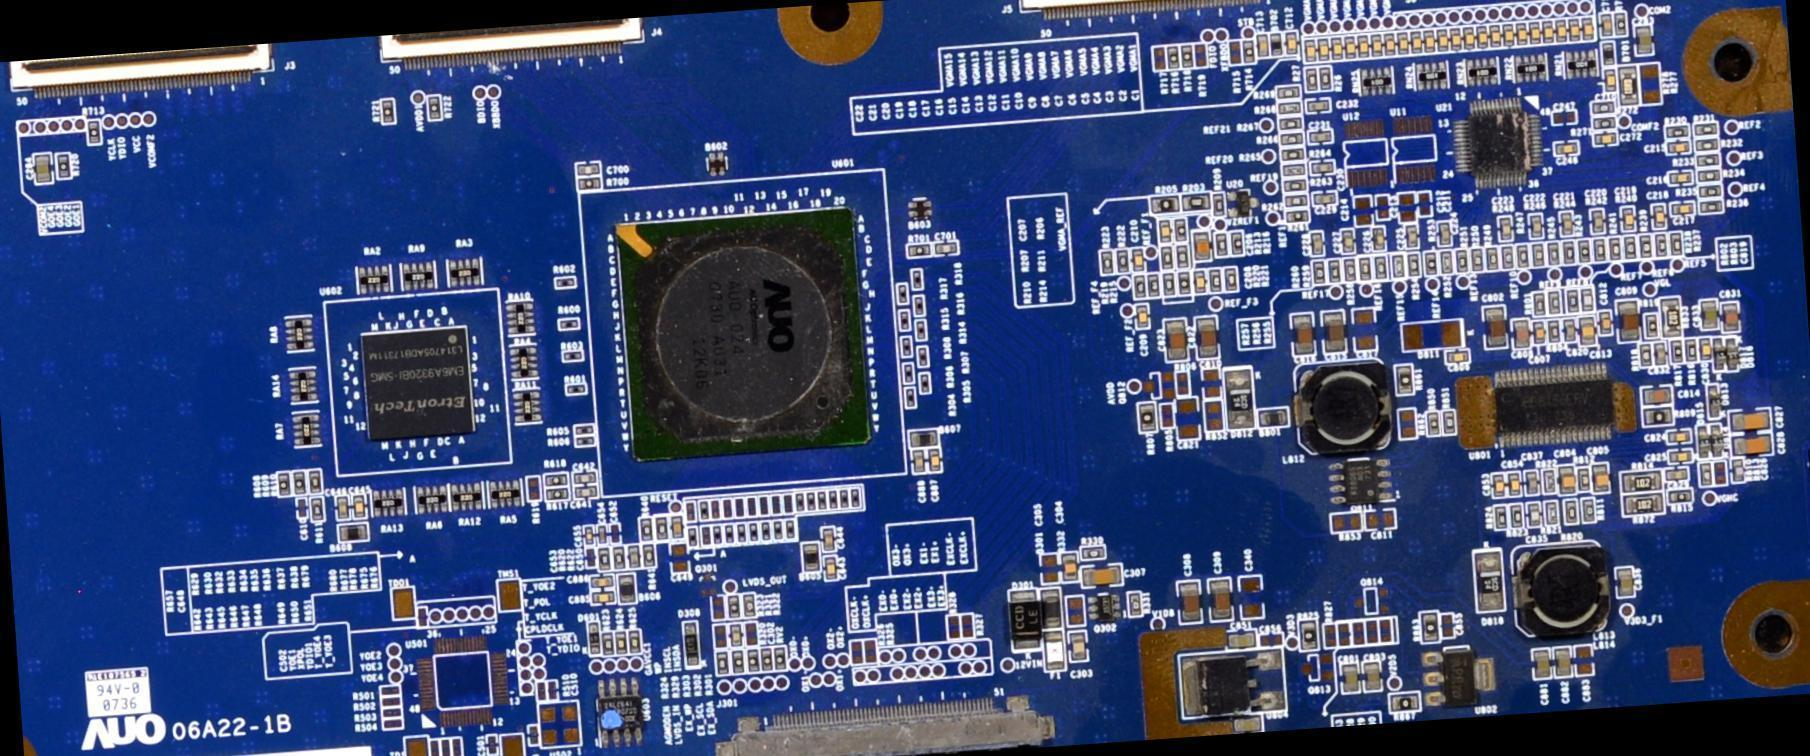Capacitor: (1176, 581, 1204, 627), (1482, 305, 1509, 350), (1732, 432, 1776, 458), (1291, 313, 1318, 356), (1321, 311, 1347, 354), (1208, 578, 1232, 621), (1729, 408, 1773, 431), (1080, 564, 1124, 588), (1067, 629, 1091, 666), (1531, 646, 1554, 682), (1303, 94, 1335, 118), (1339, 662, 1362, 696), (1592, 462, 1613, 498), (1362, 659, 1383, 695), (1615, 567, 1637, 600), (33, 153, 55, 186), (1720, 301, 1742, 333), (1636, 22, 1654, 60), (1640, 385, 1674, 406), (1553, 646, 1573, 680), (1700, 299, 1720, 333), (1191, 229, 1211, 262), (1578, 314, 1598, 347), (1511, 317, 1532, 349), (1308, 229, 1328, 259), (802, 542, 822, 573), (1370, 225, 1390, 254), (1339, 226, 1358, 256), (1063, 551, 1079, 584), (1226, 633, 1259, 649), (1311, 189, 1340, 208), (1669, 169, 1696, 188), (1490, 468, 1507, 498), (818, 525, 837, 553), (1559, 466, 1576, 497), (1307, 130, 1336, 148), (1665, 138, 1693, 156), (1559, 211, 1578, 238), (1529, 213, 1547, 241), (1665, 429, 1693, 445), (935, 240, 961, 257), (1670, 200, 1697, 217), (911, 450, 928, 477), (575, 160, 602, 177), (1309, 159, 1337, 175), (1591, 208, 1607, 236), (1621, 207, 1637, 234), (1444, 350, 1472, 366), (927, 448, 943, 476), (352, 493, 368, 520), (669, 512, 686, 540), (1524, 470, 1540, 497), (1158, 218, 1175, 244), (1652, 205, 1669, 231), (1343, 34, 1358, 62), (1662, 468, 1691, 482), (589, 575, 617, 590), (1498, 216, 1515, 242), (1404, 224, 1420, 250), (1438, 222, 1454, 248), (1131, 247, 1147, 273), (1668, 449, 1695, 465), (1527, 502, 1543, 529), (823, 556, 839, 583), (1304, 37, 1319, 65), (1507, 470, 1523, 497), (1598, 311, 1614, 336), (1285, 31, 1299, 60), (1330, 35, 1344, 63), (1604, 66, 1618, 95), (1593, 131, 1620, 146), (1654, 341, 1669, 367), (1731, 457, 1746, 484), (1580, 16, 1597, 40), (1542, 19, 1557, 44), (1531, 319, 1546, 344), (1563, 318, 1578, 344), (1698, 337, 1713, 362), (573, 471, 598, 486), (1528, 21, 1544, 44), (1476, 25, 1492, 49), (1600, 13, 1614, 39), (1568, 17, 1583, 42), (1382, 32, 1397, 56), (335, 496, 350, 520), (1461, 25, 1478, 47), (1448, 27, 1464, 49), (1556, 19, 1570, 44), (1553, 142, 1580, 155), (1194, 269, 1207, 294), (1256, 33, 1271, 57), (1503, 24, 1518, 47), (1358, 34, 1370, 60), (1318, 37, 1331, 63), (1137, 304, 1150, 330), (591, 591, 617, 604), (1424, 29, 1438, 53), (729, 623, 743, 647), (1515, 23, 1530, 45), (1410, 31, 1425, 53), (1370, 33, 1384, 56), (1437, 29, 1451, 52), (1397, 32, 1411, 55), (1491, 25, 1504, 48), (574, 486, 597, 499), (597, 524, 609, 546), (583, 525, 596, 546)
Connector: (3, 43, 282, 102), (373, 17, 653, 75)
IC: (576, 172, 903, 491), (326, 290, 511, 476), (1486, 361, 1623, 454), (1452, 92, 1546, 194), (589, 675, 649, 754)
Resistor: (1619, 469, 1664, 494), (1622, 493, 1666, 516), (1661, 296, 1683, 338), (1147, 194, 1184, 215), (1137, 402, 1158, 436), (1642, 406, 1676, 427), (1297, 618, 1318, 651), (1389, 692, 1422, 713), (1396, 363, 1416, 396), (1419, 611, 1440, 643), (1283, 207, 1312, 226), (1098, 248, 1117, 277), (1126, 590, 1144, 620), (1182, 192, 1209, 212), (1662, 123, 1694, 140), (1667, 231, 1686, 257), (1653, 231, 1670, 261), (892, 281, 911, 308), (1080, 544, 1108, 562), (1696, 168, 1725, 186), (1406, 251, 1423, 279), (1637, 233, 1655, 260), (1693, 152, 1723, 169), (309, 495, 325, 525), (1180, 43, 1197, 70), (276, 470, 293, 497), (641, 544, 658, 571), (1622, 235, 1640, 261), (1692, 122, 1721, 138), (906, 242, 935, 259), (1698, 199, 1727, 215), (1160, 244, 1176, 272), (542, 471, 571, 487), (1613, 11, 1630, 38), (1174, 244, 1191, 270), (1607, 236, 1624, 262), (1561, 239, 1578, 265), (1500, 245, 1517, 271), (1222, 267, 1240, 293), (1698, 462, 1715, 488), (1276, 132, 1305, 147), (1591, 115, 1618, 132), (1282, 194, 1310, 210), (1173, 216, 1189, 243), (307, 469, 325, 493), (1543, 500, 1560, 527), (715, 650, 731, 677), (1471, 248, 1488, 273), (1176, 270, 1194, 296), (1208, 269, 1225, 294), (1638, 343, 1655, 368), (1276, 101, 1304, 116), (1589, 100, 1618, 115), (1277, 147, 1306, 162), (1442, 409, 1457, 437), (1666, 489, 1695, 504), (1698, 183, 1725, 200), (1542, 468, 1558, 494), (731, 647, 747, 674), (1546, 241, 1563, 266), (1668, 340, 1685, 365), (1494, 504, 1511, 529), (56, 152, 72, 180), (1273, 86, 1303, 100), (576, 175, 604, 191), (427, 97, 443, 122), (1303, 66, 1319, 91), (1516, 244, 1532, 269), (1565, 288, 1581, 314), (1532, 292, 1548, 317), (1644, 314, 1660, 339), (292, 470, 308, 495), (638, 517, 654, 542), (1577, 467, 1593, 493), (1117, 247, 1131, 276), (1160, 272, 1177, 296), (1280, 162, 1307, 177), (1281, 178, 1308, 193), (1231, 230, 1245, 256), (1215, 231, 1231, 257), (1425, 251, 1439, 277), (1425, 410, 1440, 436), (545, 487, 571, 502), (654, 515, 669, 541), (1593, 238, 1609, 262), (381, 98, 396, 124), (910, 267, 925, 292), (1327, 258, 1342, 284), (1343, 258, 1358, 284), (1134, 275, 1149, 300), (897, 307, 912, 332), (1547, 319, 1562, 344), (1510, 503, 1525, 529), (773, 646, 788, 672), (1548, 291, 1564, 314), (1166, 45, 1180, 71), (1279, 117, 1305, 130), (1312, 260, 1326, 286), (1694, 137, 1719, 152), (1578, 238, 1593, 262), (1532, 242, 1547, 267), (1455, 249, 1470, 274), (914, 319, 929, 343), (1375, 255, 1389, 280), (1486, 248, 1500, 273), (1685, 338, 1699, 364), (613, 545, 627, 570), (1358, 257, 1372, 281), (912, 295, 927, 319), (917, 344, 931, 367), (629, 631, 644, 654), (746, 649, 761, 672), (1319, 66, 1333, 90), (1213, 192, 1227, 216), (900, 334, 913, 359), (602, 633, 615, 658), (903, 362, 916, 385), (599, 548, 613, 571), (1147, 274, 1160, 298), (728, 594, 741, 619), (744, 593, 757, 617), (615, 632, 629, 654), (905, 387, 918, 410), (555, 276, 576, 290), (920, 370, 932, 395), (762, 648, 773, 672), (566, 382, 586, 395), (575, 424, 595, 436), (559, 318, 580, 330), (563, 351, 584, 361), (576, 437, 596, 448)
Transistor: (1178, 647, 1291, 721), (1418, 641, 1497, 709), (1326, 455, 1402, 508), (1087, 592, 1124, 623)
